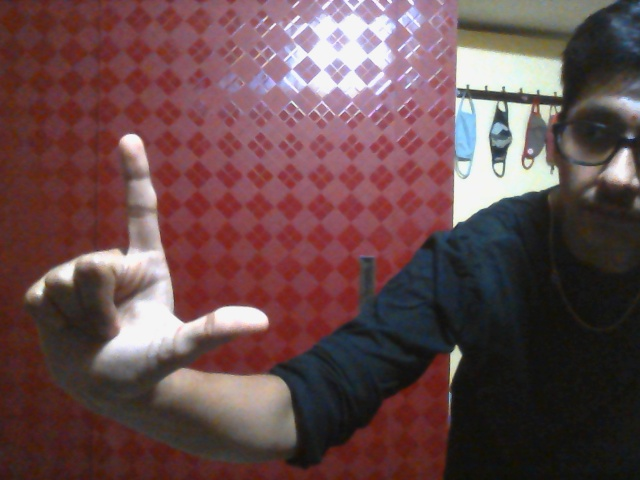L: (24, 131, 270, 383)
